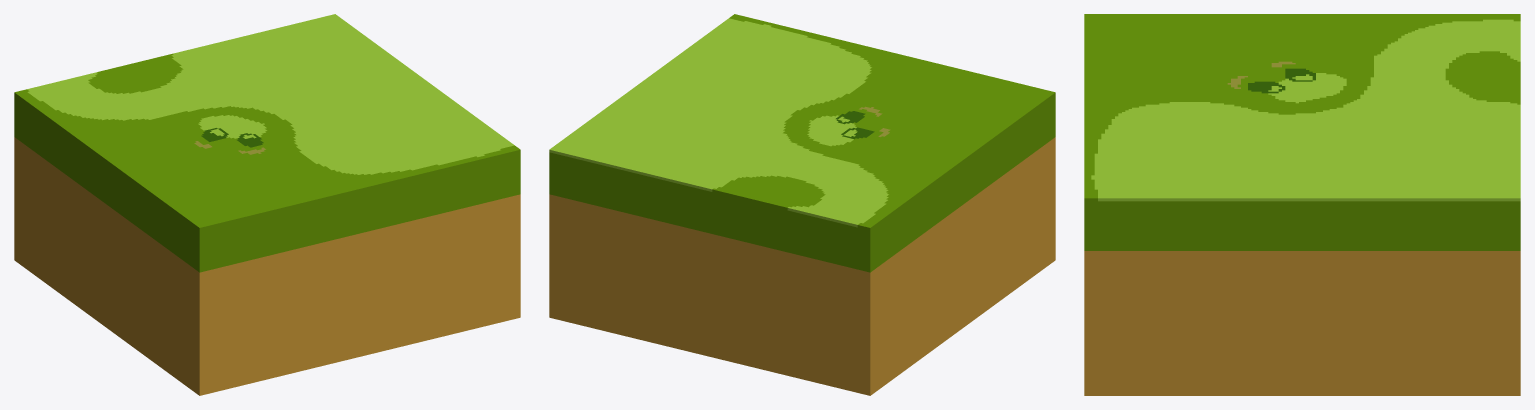
3 views of the same model, side by side, from view 1: azimuth 30°, elevation 25°; view 2: azimuth 150°, elevation 25°; view 3: azimuth 270°, elevation 25° (orthographic). The views are drawn at different scales.
Visible parts, largest first — view 1: 11F; view 2: 11F; view 3: 11F.
Boxes of the visible parts, x1,y1,x2,y2 form: 11F: [14, 14, 520, 395]; 11F: [549, 14, 1055, 395]; 11F: [1084, 14, 1520, 395].
Bounding box in the file's own units: 12.8 × 6.4 × 12.8.
1 material, 1 textured.
